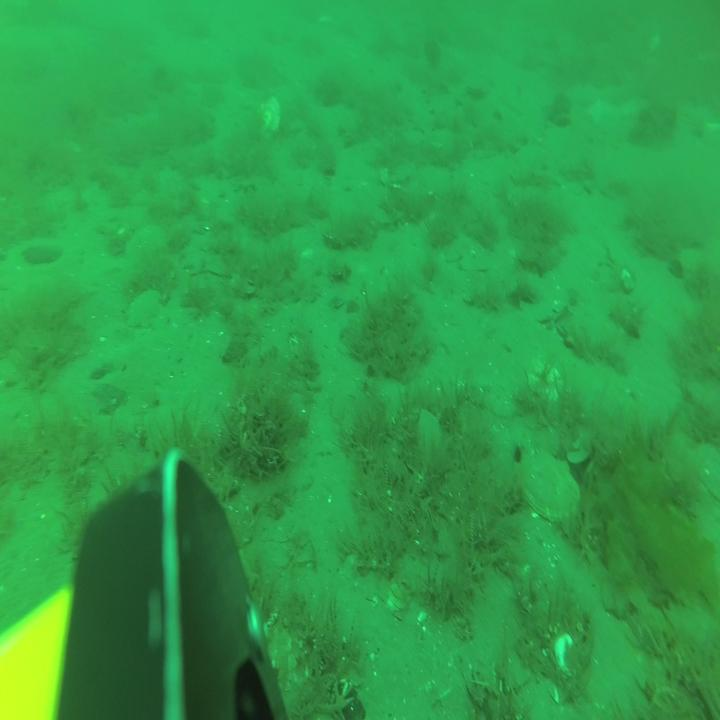scallop: (524, 453, 580, 523), (404, 409, 440, 475), (690, 439, 720, 501), (528, 359, 562, 404), (127, 290, 162, 329), (258, 96, 281, 138)
